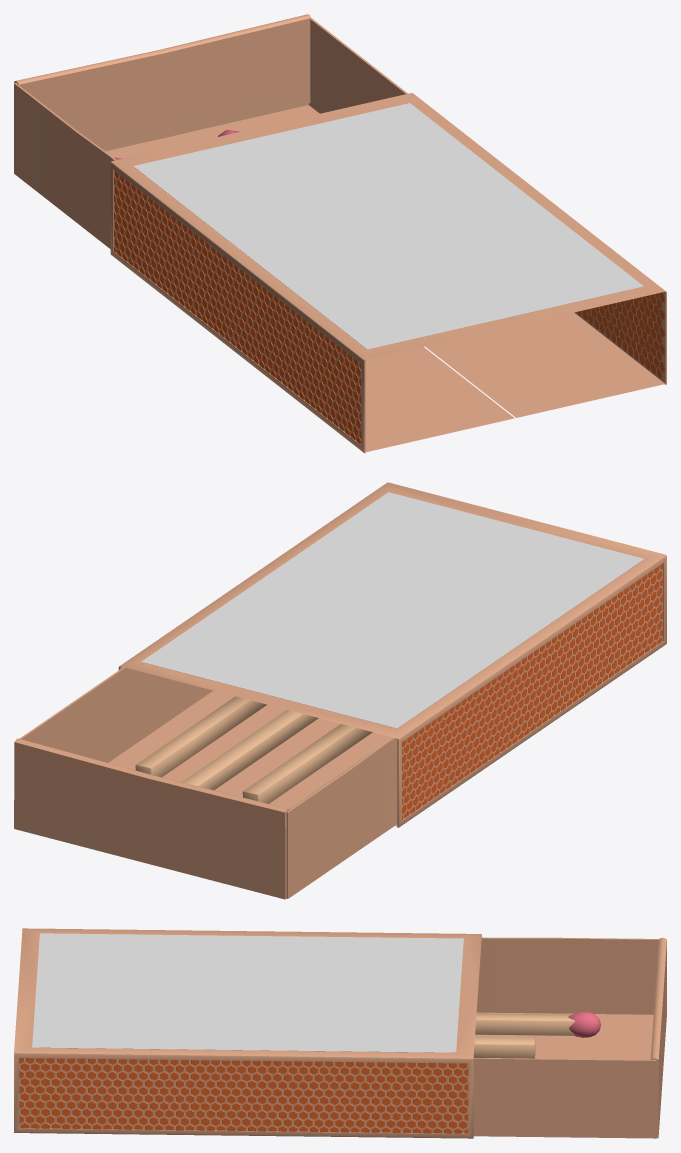
The model's file is matchbox_5.fbx.
The picture shows the model from 3 angles, top to bottom: view 1: azimuth 30°, elevation 25°; view 2: azimuth 150°, elevation 25°; view 3: azimuth 270°, elevation 25°; orthographic projection. The views are drawn at different scales.
Parts seen in each view (by area): view 1: Cube, Cube.001; view 2: Cube, Cube.001, Cube.006, Cube.007, Cube.003; view 3: Cube, Cube.001, Cube.002, Cube.003.
Part boxes in pixels (left/top/right/bottom): Cube: left=110, top=93, right=666, bottom=453; Cube.001: left=14, top=14, right=407, bottom=248; Cube: left=118, top=482, right=666, bottom=827; Cube.001: left=14, top=667, right=397, bottom=899; Cube.006: left=182, top=710, right=318, bottom=790; Cube.007: left=135, top=696, right=266, bottom=777; Cube.003: left=242, top=724, right=372, bottom=803; Cube: left=14, top=928, right=481, bottom=1138; Cube.001: left=473, top=937, right=666, bottom=1138; Cube.002: left=475, top=1012, right=600, bottom=1037; Cube.003: left=473, top=1036, right=535, bottom=1058.
Size of the model in its own units: 16.05 by 4.61 by 33.64.
